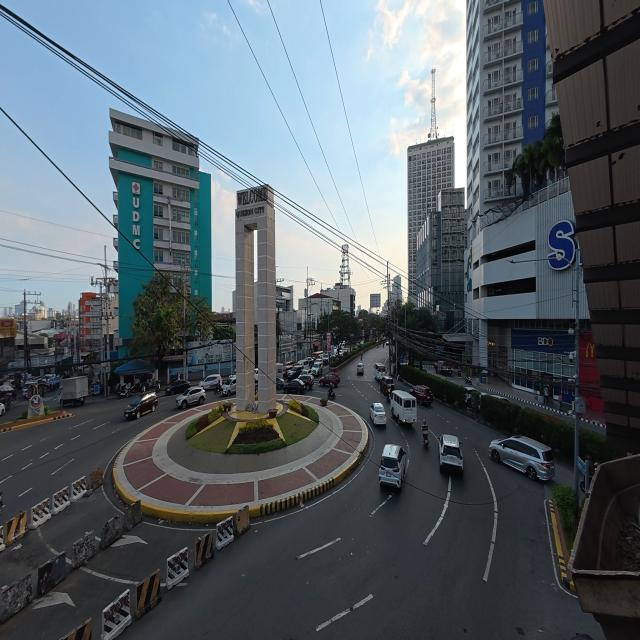car: (489, 436, 554, 480), (379, 444, 406, 490), (439, 434, 463, 473), (124, 392, 158, 419), (176, 387, 205, 408), (409, 386, 433, 406), (479, 392, 510, 406), (165, 379, 190, 395), (370, 403, 386, 425), (200, 374, 221, 389), (284, 379, 305, 394), (23, 380, 40, 398), (222, 375, 236, 396), (380, 376, 394, 396), (465, 387, 479, 406), (320, 373, 340, 386), (297, 374, 313, 390), (287, 365, 303, 380), (312, 360, 323, 376), (299, 368, 313, 377), (304, 357, 314, 369), (276, 378, 284, 390), (357, 363, 364, 375), (322, 353, 329, 364), (340, 349, 348, 357), (0, 403, 5, 415), (255, 368, 258, 381), (360, 340, 364, 345)
motorcycle: (589, 464, 598, 487), (421, 421, 428, 447), (117, 384, 130, 398), (148, 378, 161, 392), (327, 388, 335, 399), (213, 383, 221, 393), (0, 492, 3, 514), (465, 375, 471, 384)
vans: (391, 391, 416, 424), (375, 363, 385, 380)
